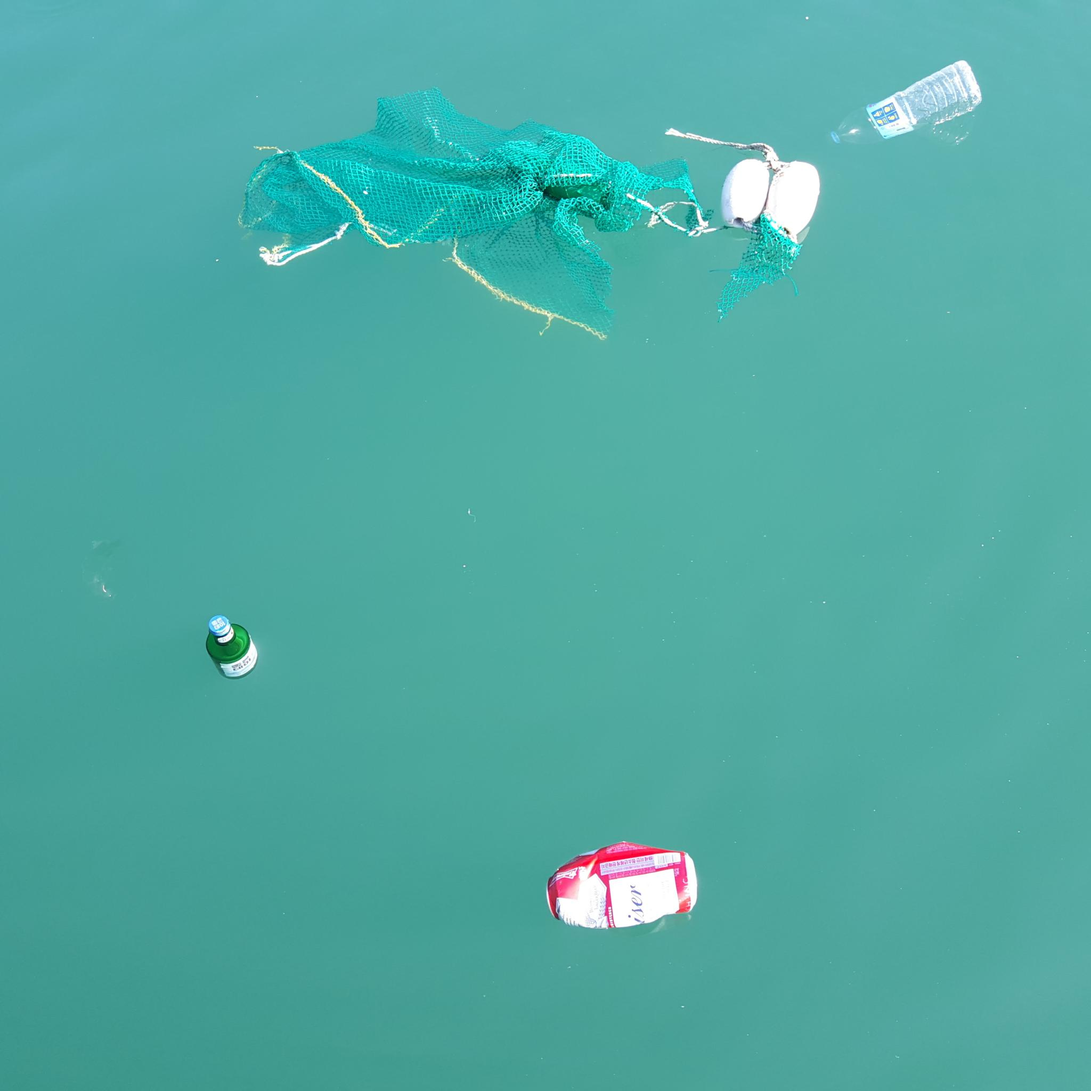sampah_terapung: (238, 86, 803, 341), (547, 842, 698, 930), (832, 61, 982, 144), (664, 127, 790, 165), (766, 161, 820, 237), (721, 159, 770, 229), (207, 616, 259, 680), (643, 199, 725, 238)
